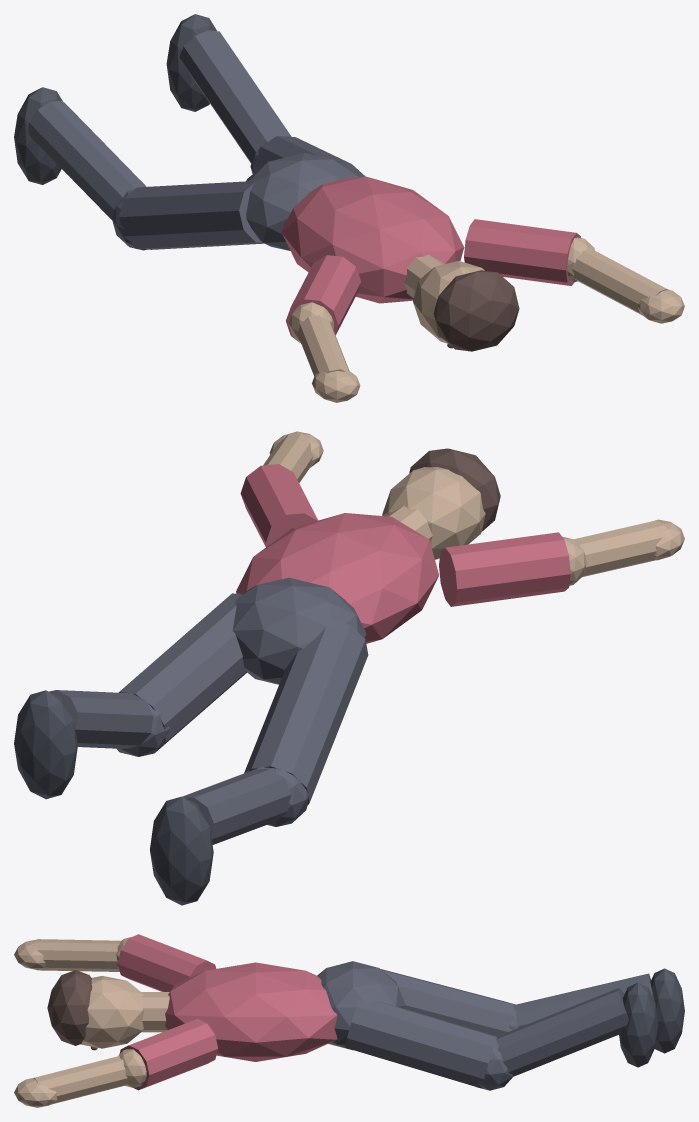
3 views of the same model, one above another, from view 1: azimuth 30°, elevation 25°; view 2: azimuth 150°, elevation 25°; view 3: azimuth 270°, elevation 25° (orthographic). The views are drawn at different scales.
Visible parts, largest first — view 1: world; view 2: world; view 3: world.
Part boxes in pixels (x1=…): world: x1=14, y1=14, x2=684, y2=402; world: x1=14, y1=431, x2=684, y2=905; world: x1=14, y1=934, x2=684, y2=1107.
Bounding box in the file's own units: 1.17 × 0.4556 × 2.14.
